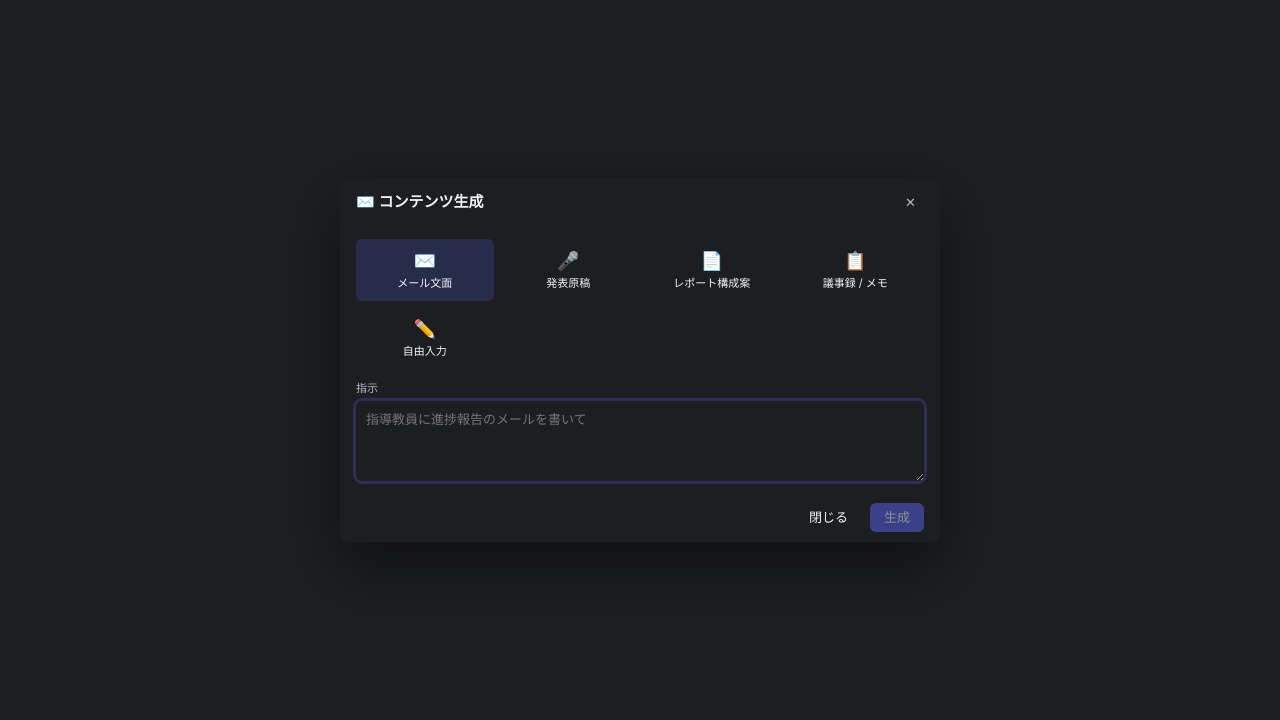
Test: ContentGenerator › surfaces errors from docai.generate
Type "x" into the text box named "生成指示". click: (640, 441)
box: [356,401,924,481]
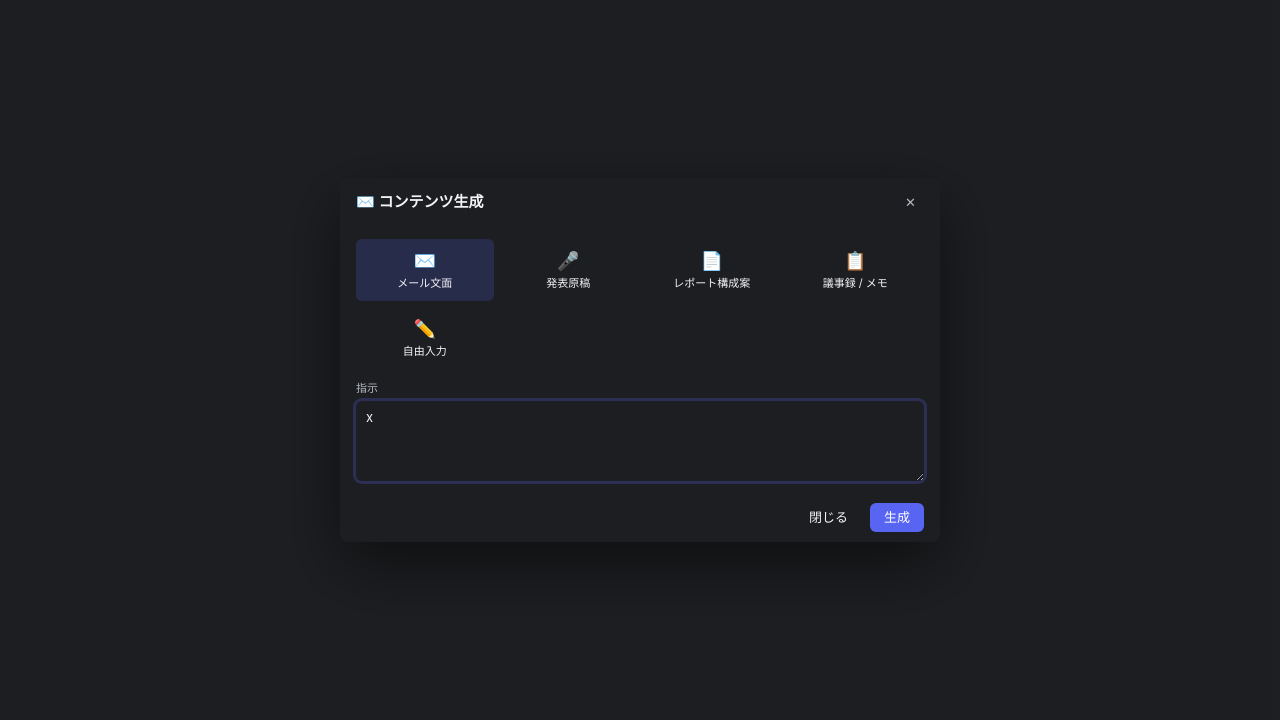
Click the button "生成". click: (897, 517)
box: [870,503,924,532]
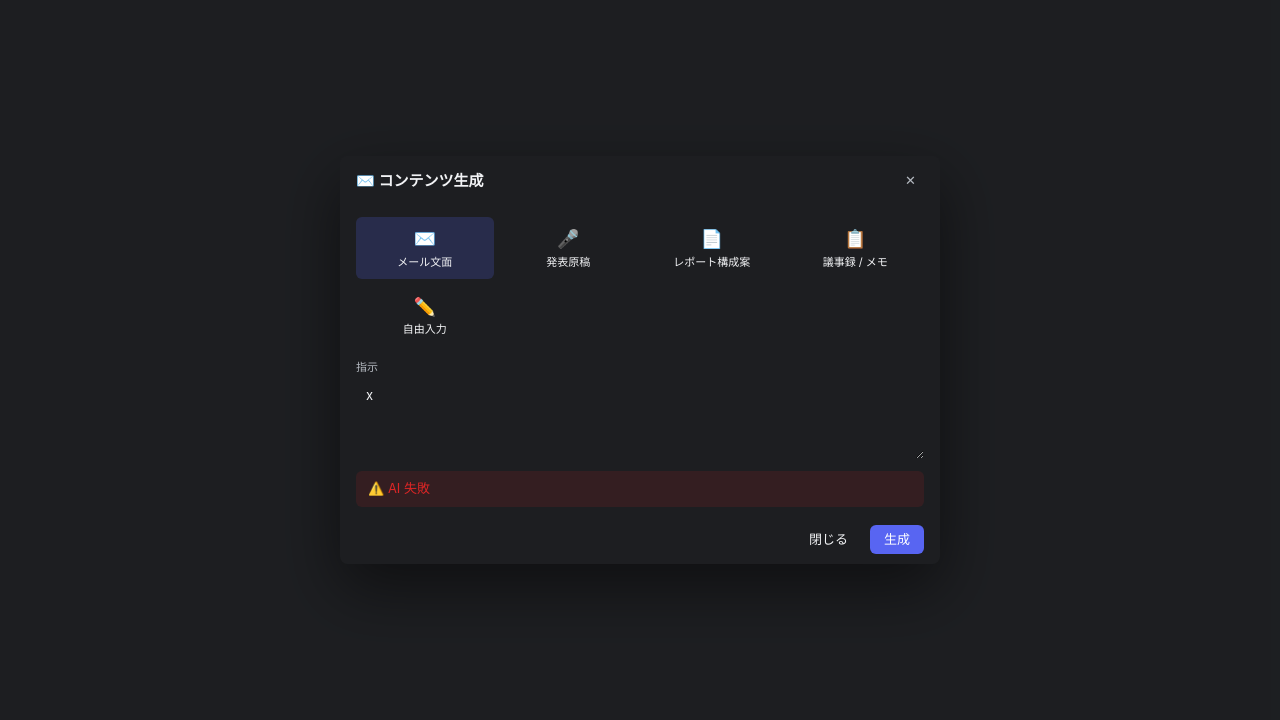
Now the message shows "AI 失敗", box [388,480,430,496]
